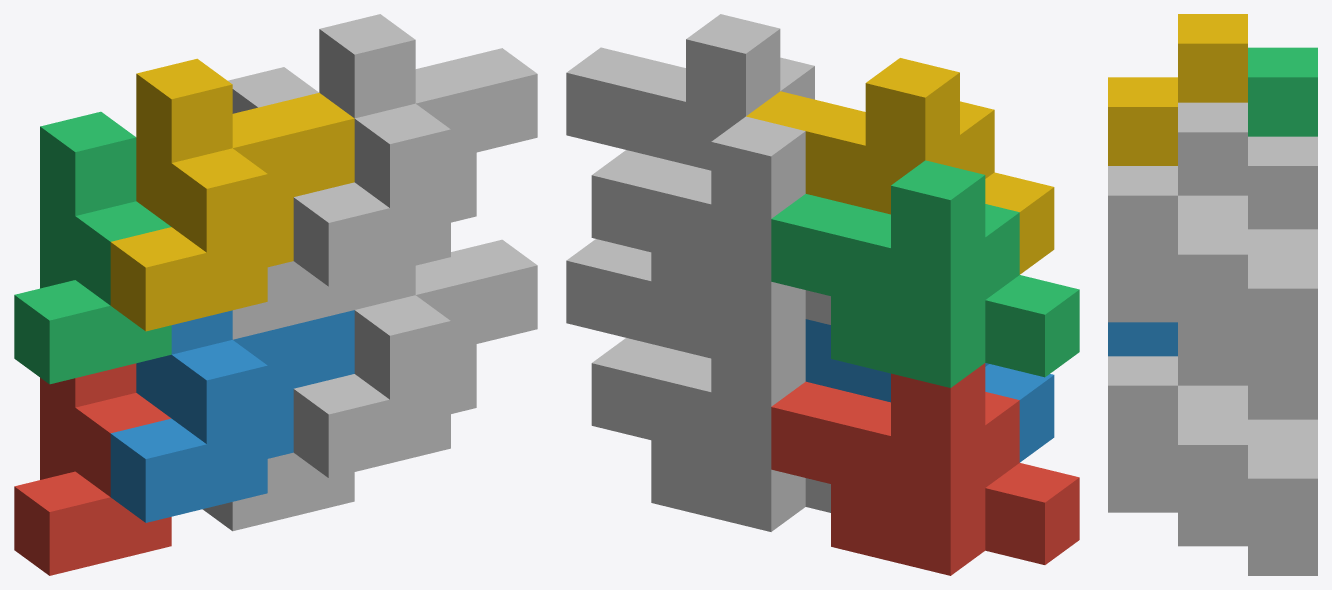
The model's file is tiling.obj.
3 views of the same model, side by side, from view 1: azimuth 30°, elevation 25°; view 2: azimuth 150°, elevation 25°; view 3: azimuth 270°, elevation 25° (orthographic).
Visible parts, largest first — view 1: copy_1_domain_4, copy_1_domain_8, copy_1_domain_6, copy_1_domain_2, copy_1_domain_3, copy_1_domain_1, copy_1_domain_7, copy_1_domain_5; view 2: copy_1_domain_3, copy_1_domain_1, copy_1_domain_7, copy_1_domain_5, copy_1_domain_4, copy_1_domain_8, copy_1_domain_6, copy_1_domain_2; view 3: copy_1_domain_8, copy_1_domain_6, copy_1_domain_7, copy_1_domain_5, copy_1_domain_4, copy_1_domain_3, copy_1_domain_2.
Part boxes in pixels (left/top/right/bottom): copy_1_domain_4: left=110, top=58, right=354, bottom=331; copy_1_domain_8: left=293, top=14, right=537, bottom=286; copy_1_domain_6: left=293, top=239, right=537, bottom=478; copy_1_domain_2: left=110, top=310, right=354, bottom=522; copy_1_domain_3: left=14, top=111, right=171, bottom=384; copy_1_domain_1: left=14, top=363, right=171, bottom=575; copy_1_domain_7: left=228, top=67, right=354, bottom=339; copy_1_domain_5: left=202, top=452, right=354, bottom=531; copy_1_domain_3: left=771, top=160, right=1079, bottom=387; copy_1_domain_1: left=771, top=363, right=1079, bottom=575; copy_1_domain_7: left=591, top=116, right=830, bottom=343; copy_1_domain_5: left=591, top=319, right=830, bottom=531; copy_1_domain_4: left=746, top=58, right=1054, bottom=274; copy_1_domain_8: left=566, top=14, right=814, bottom=170; copy_1_domain_6: left=566, top=239, right=711, bottom=358; copy_1_domain_2: left=805, top=319, right=1054, bottom=462; copy_1_domain_8: left=1108, top=102, right=1247, bottom=351; copy_1_domain_6: left=1108, top=352, right=1247, bottom=542; copy_1_domain_7: left=1248, top=136, right=1317, bottom=385; copy_1_domain_5: left=1178, top=385, right=1317, bottom=575; copy_1_domain_4: left=1108, top=14, right=1247, bottom=165; copy_1_domain_3: left=1248, top=47, right=1317, bottom=136; copy_1_domain_2: left=1108, top=322, right=1177, bottom=356.
Bounding box in the file's own units: 8 × 7 × 3.
